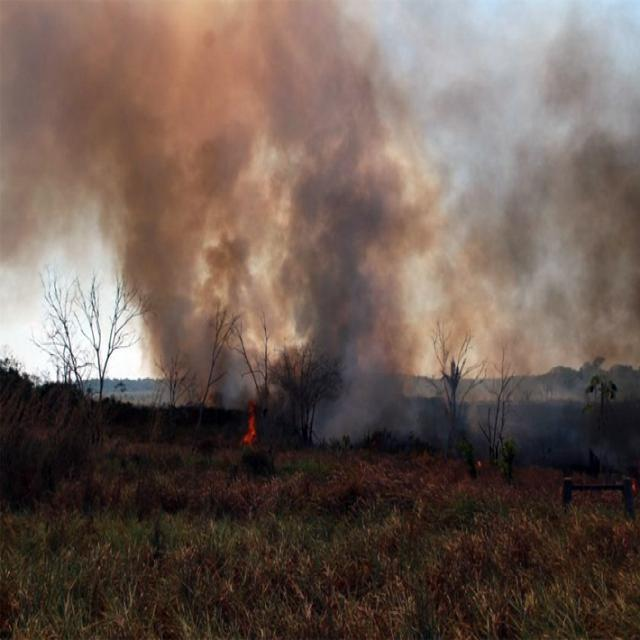Fire: (232, 397, 268, 452)
Smoke: (17, 13, 628, 392)
